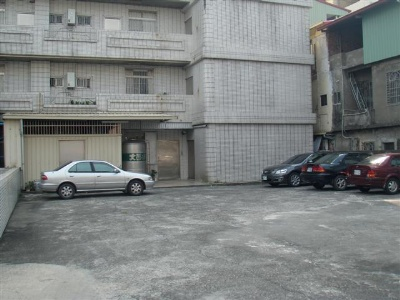water_tower: (122, 137, 150, 173)
